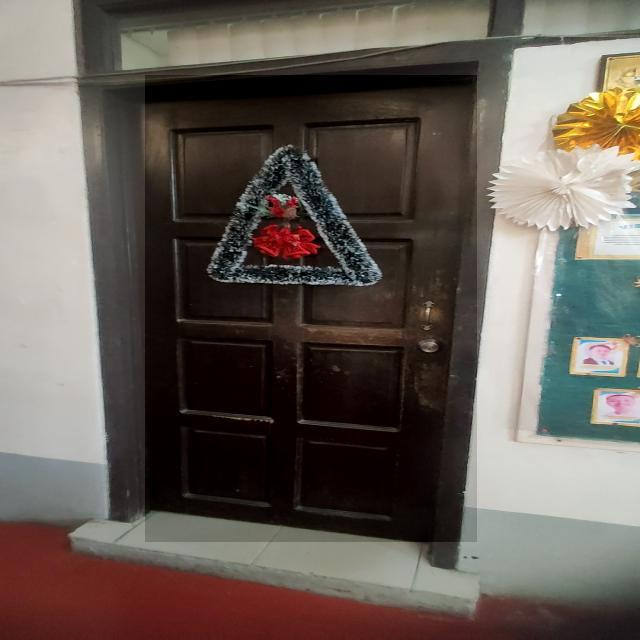door: (108, 45, 477, 543)
